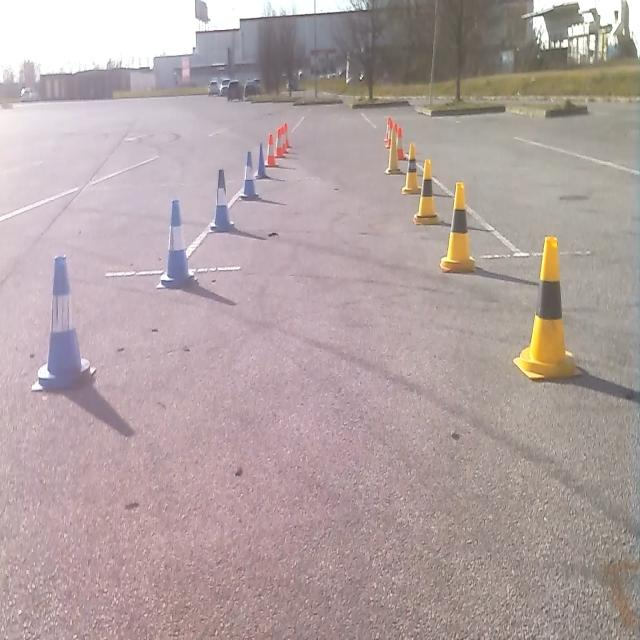blue_cone: (32, 252, 94, 392), (158, 196, 195, 288), (210, 167, 234, 232), (238, 150, 259, 200), (253, 142, 270, 180)
orange_cone: (265, 132, 278, 167), (384, 118, 397, 149), (395, 127, 406, 161), (274, 126, 284, 157), (282, 120, 290, 148)
yellow_cone: (513, 233, 577, 381), (440, 180, 476, 274), (413, 156, 440, 226), (402, 142, 421, 194), (384, 126, 402, 174)
